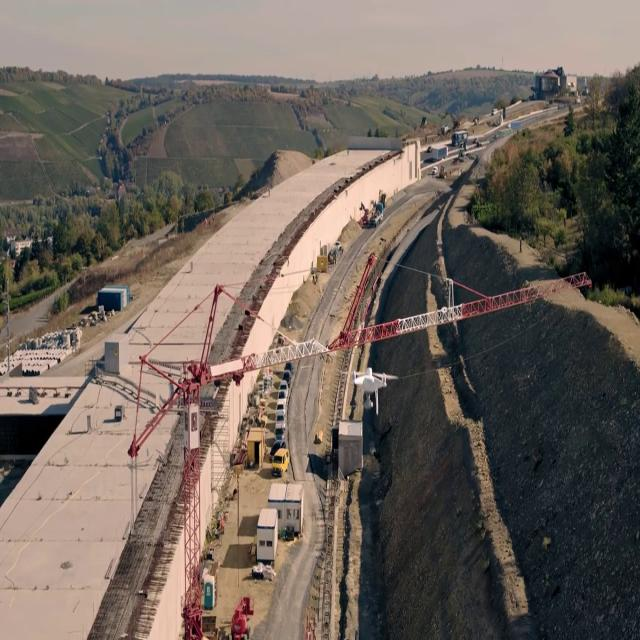drone: (345, 364, 399, 414)
